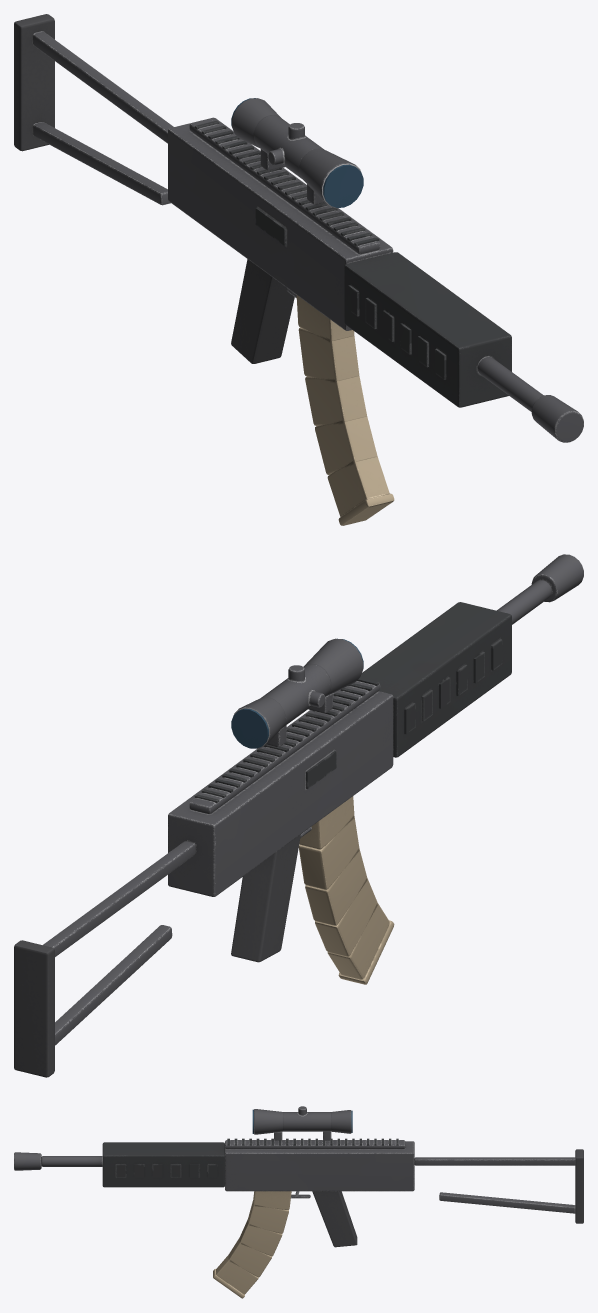
3 views of the same model, one above another, from view 1: azimuth 30°, elevation 25°; view 2: azimuth 150°, elevation 25°; view 3: azimuth 270°, elevation 25° (orthographic). The views are drawn at different scales.
Parts seen in each view (by area): view 1: sg553; view 2: sg553; view 3: sg553.
Boxes of the visible parts, bbox=[...] form: sg553: bbox=[14, 14, 583, 525]; sg553: bbox=[14, 554, 583, 1077]; sg553: bbox=[14, 1106, 583, 1298].
Size of the model in its own units: 0.058 by 0.3391 by 0.932.
